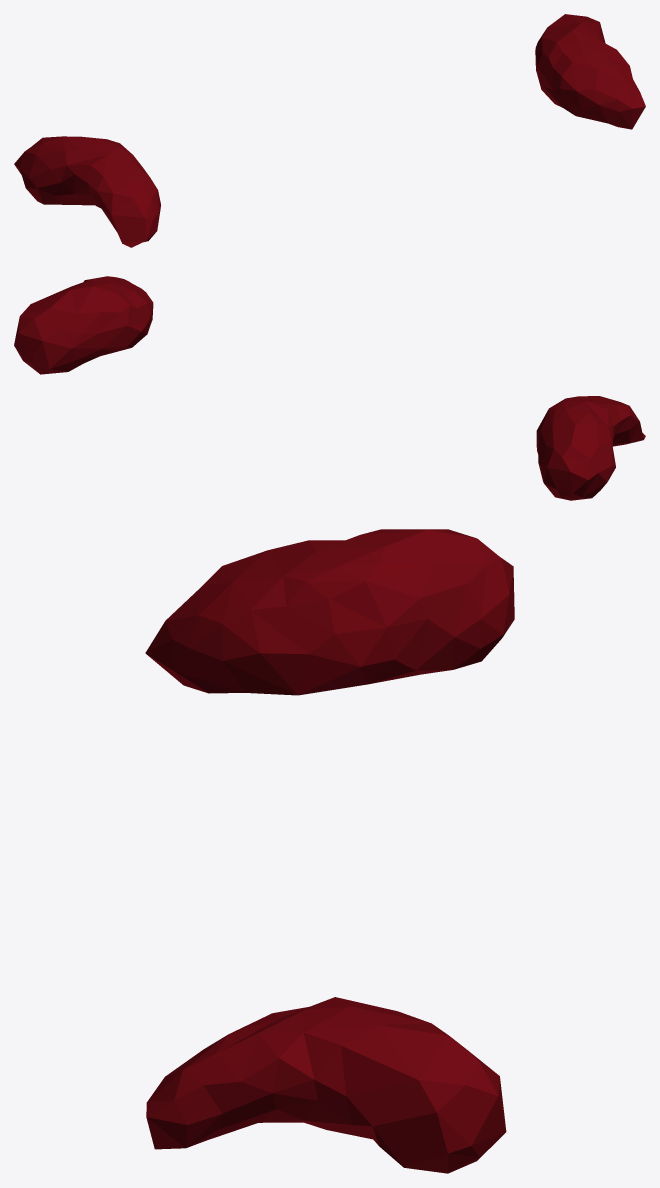
File: 56-Me-medial amygdaloid nucleus-('0.4980', '0.0000', '0.0549').obj
3 views of the same model, one above another, from view 1: azimuth 30°, elevation 25°; view 2: azimuth 150°, elevation 25°; view 3: azimuth 270°, elevation 25° (orthographic). The views are drawn at different scales.
Size of the model in its own units: 122 by 14.06 by 33.8.
